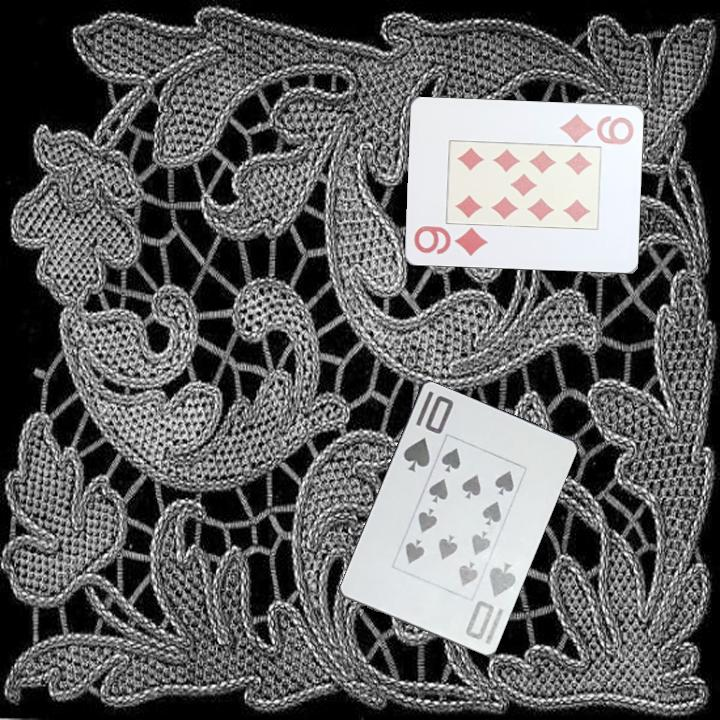9d: (556, 109, 637, 146), (411, 222, 491, 258)
Ts: (400, 387, 457, 475), (462, 560, 519, 643)
